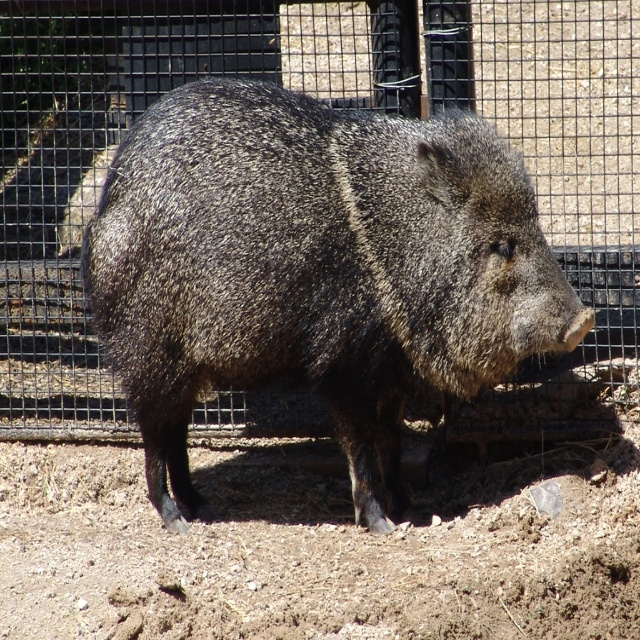Pig: (79, 76, 595, 536)
